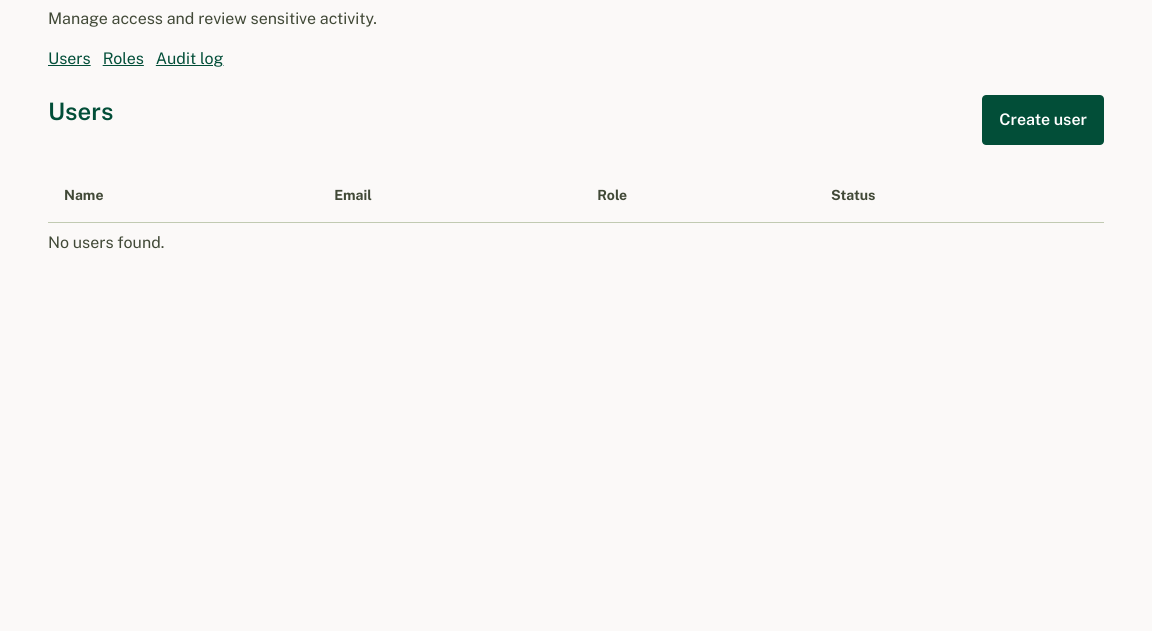
Test: administration › creates a user with role and portfolio assignments and displays the result
Click the button "Create user" at {"x": 1043, "y": 120}, box x1=982 y1=95 x2=1104 y2=145
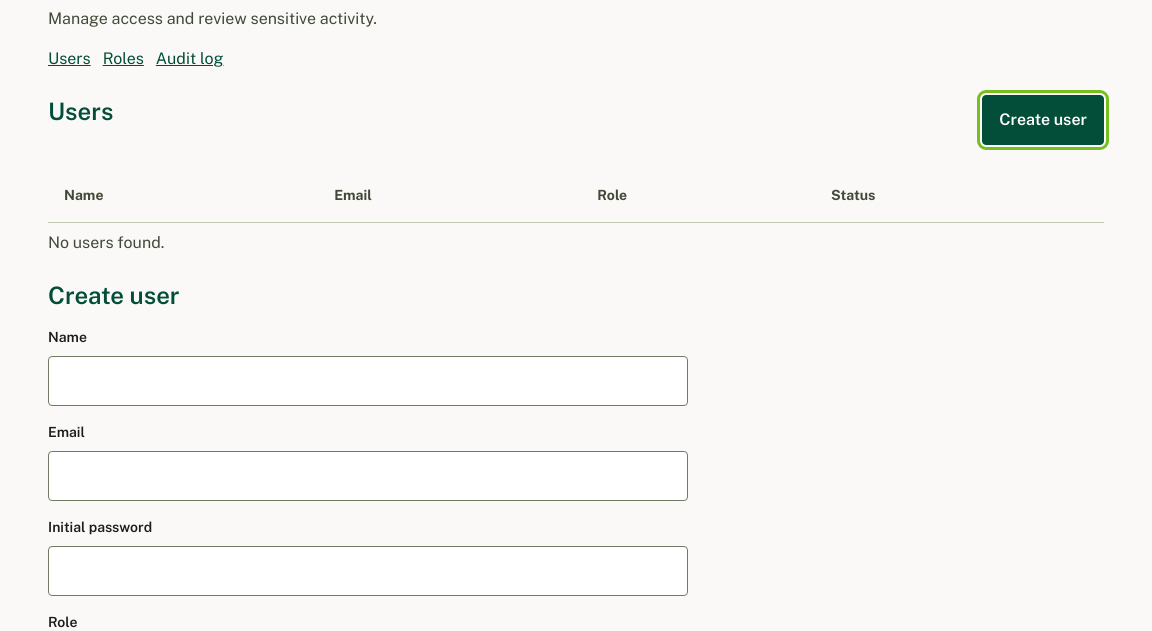
Type "New Person" into the field labelled "Name" at {"x": 368, "y": 381}, box x1=48 y1=356 x2=688 y2=406
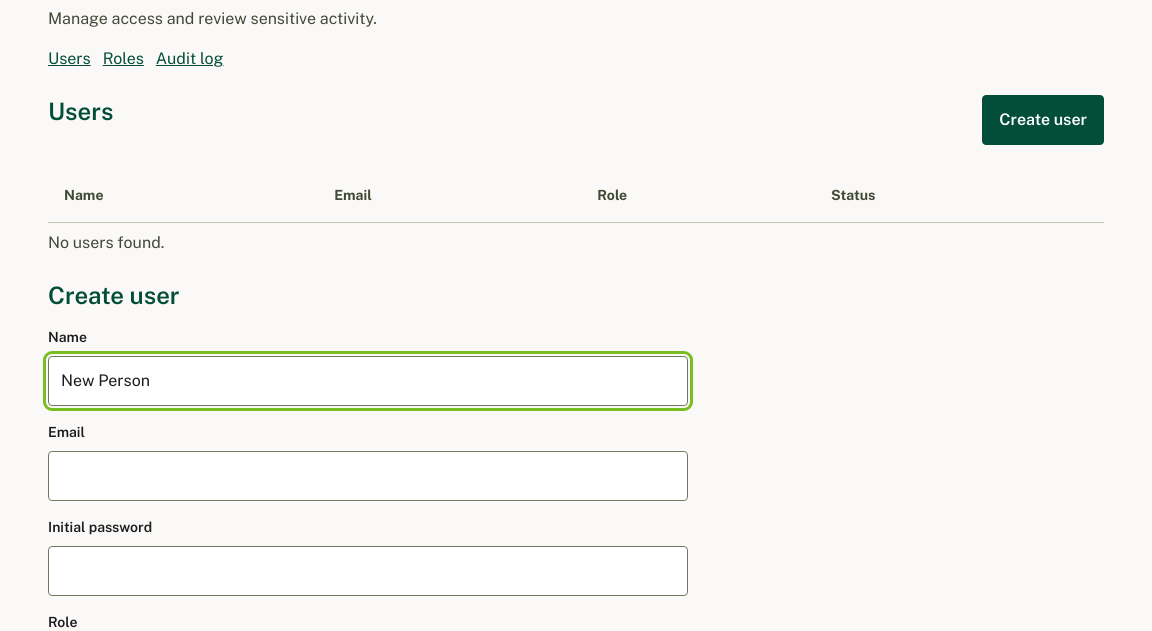
Type "person@example.com" into the field labelled "Email" at {"x": 368, "y": 476}, box x1=48 y1=451 x2=688 y2=501
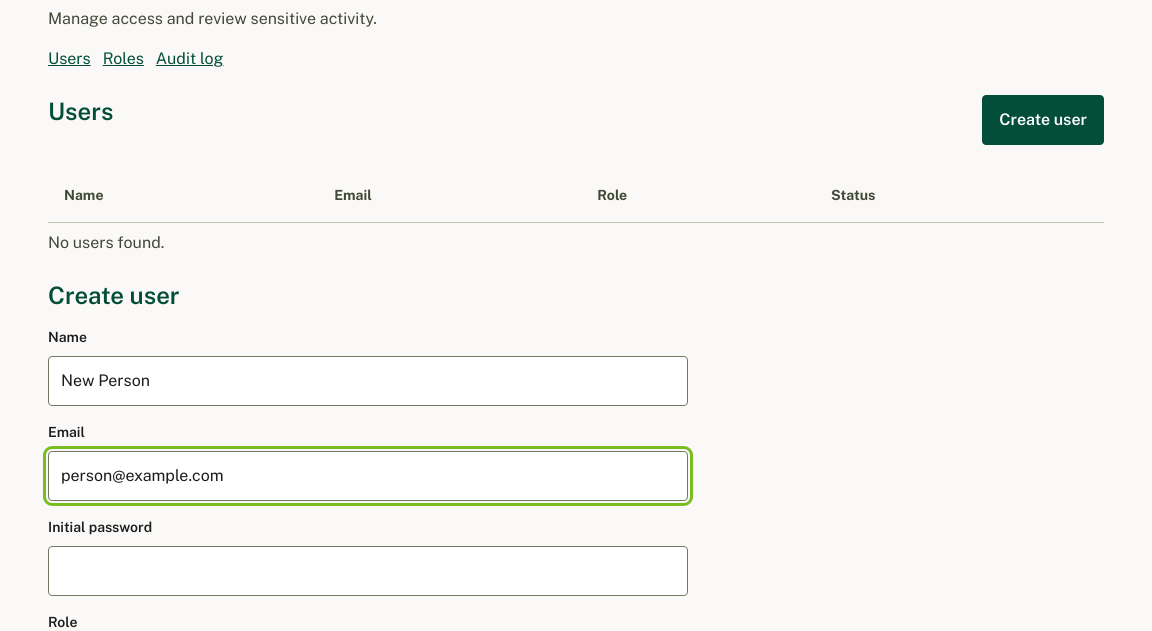
Type "Strong-password-123" into the password field labelled "Initial password" at {"x": 368, "y": 571}, box x1=48 y1=546 x2=688 y2=596
(page scrolled)
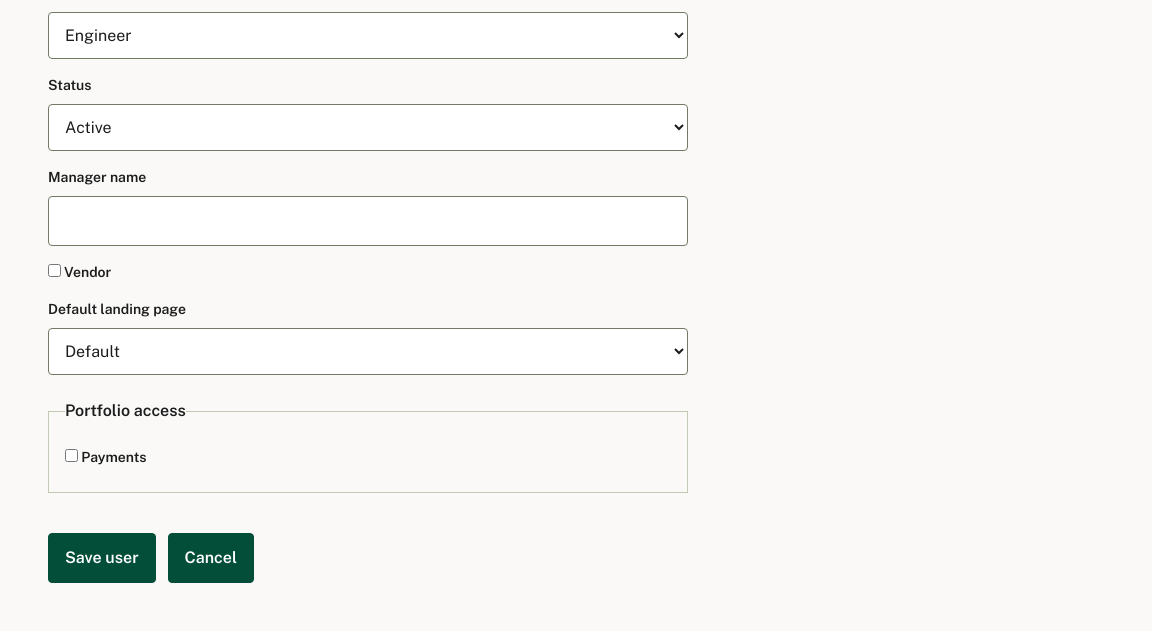
Click the checkbox labelled "Payments" at {"x": 72, "y": 456}, box x1=65 y1=449 x2=78 y2=462
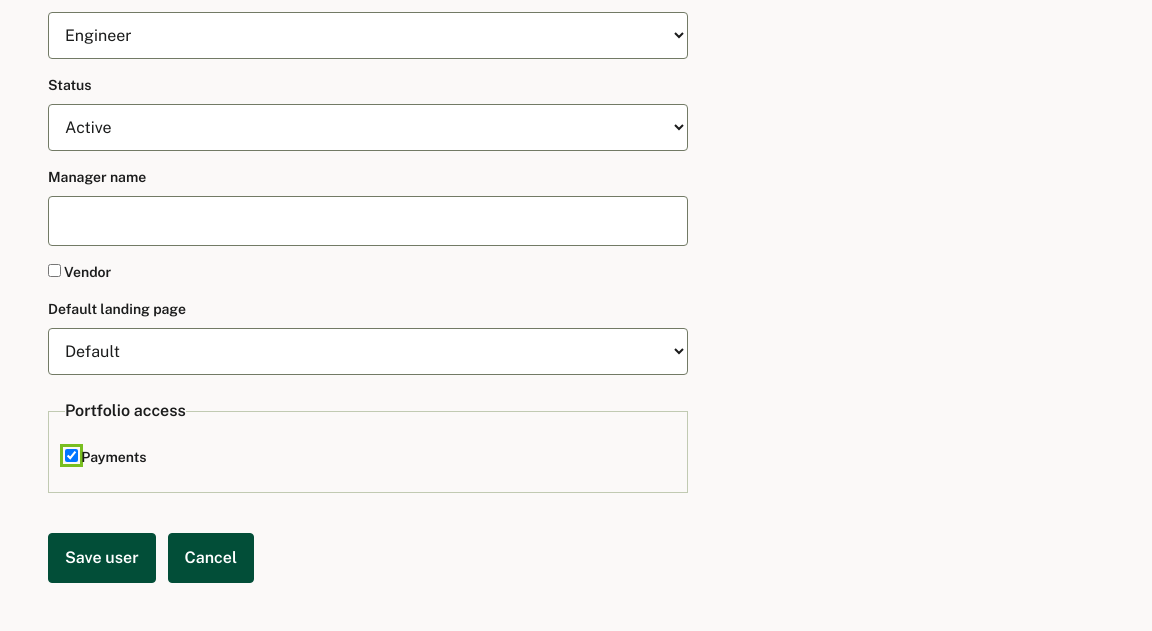
Click the button "Save user" at {"x": 102, "y": 558}, box x1=48 y1=533 x2=156 y2=583
(page scrolled)
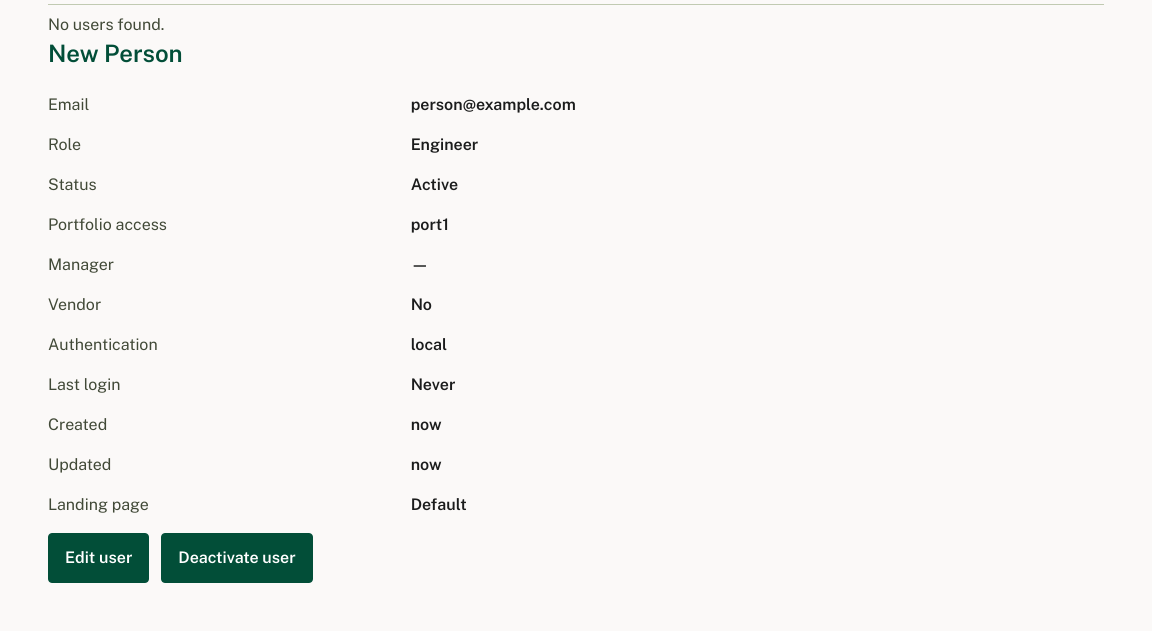
Result: the heading "New Person" is shown at x1=48 y1=39 x2=183 y2=67
